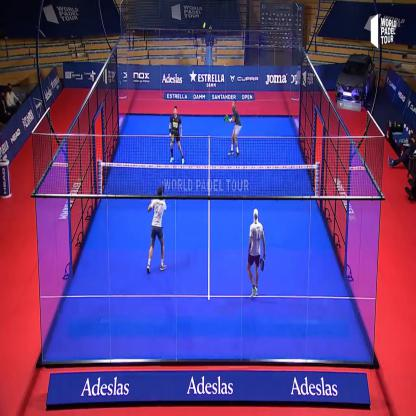ball: (202, 18, 207, 33)
